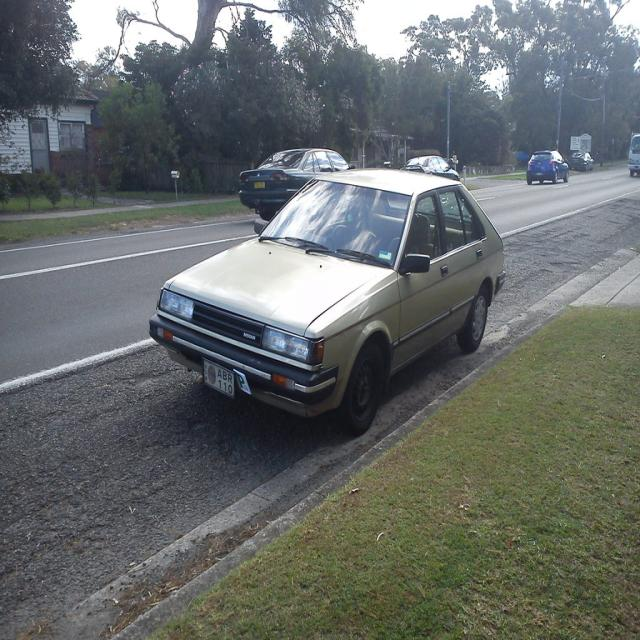car: (149, 165, 507, 441), (523, 146, 567, 184)
